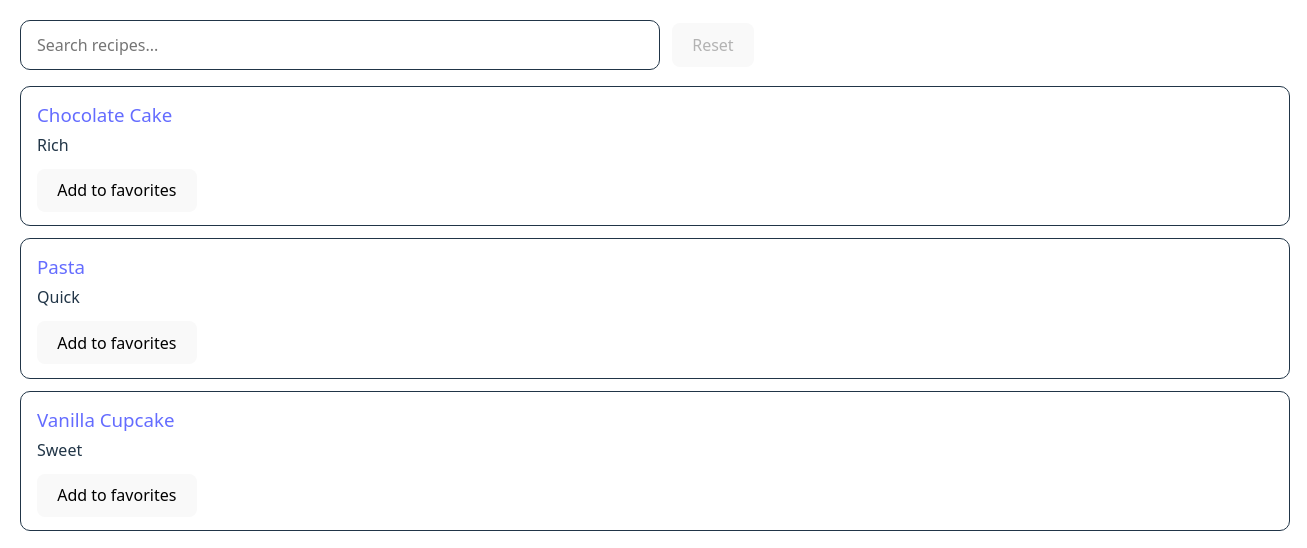
Test: SearchBar + RecipeList integration › filters results as the user types
The width and height of the screenshot is (1307, 548).
Expected: the link "Chocolate Cake" is shown, [37, 102, 172, 127]
Expected: the link "Pasta" is shown, [37, 254, 85, 279]
Type "cake" into the field labelled "Search recipes...".
click(340, 45); type("cake")  # box [20, 20, 660, 70]
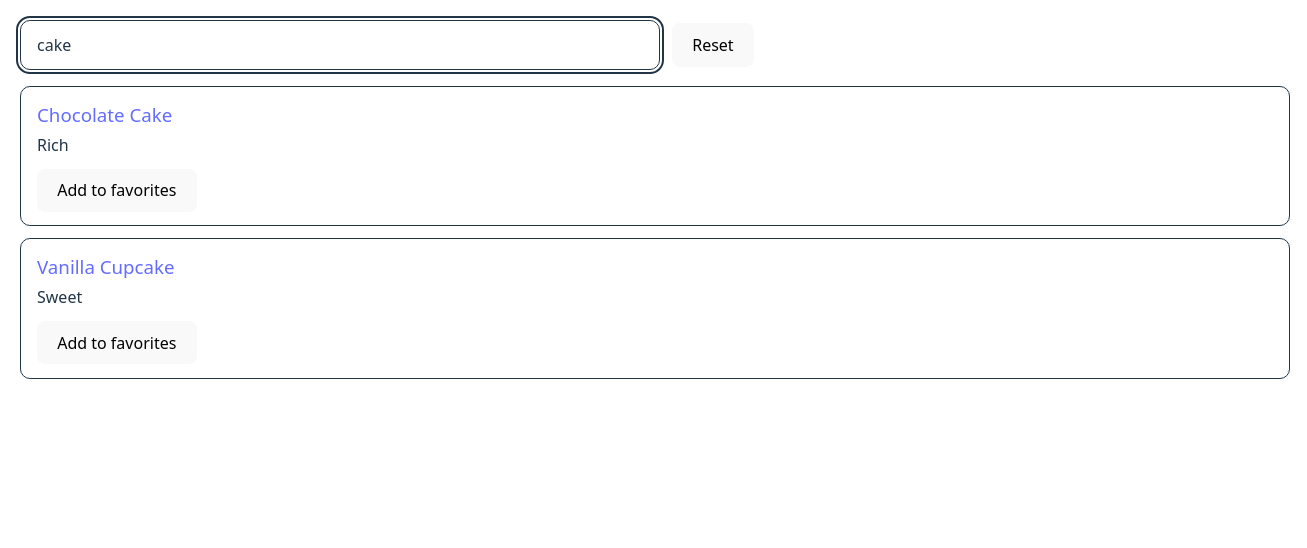
Expected: the link "Chocolate Cake" is shown, [37, 102, 172, 127]
Result: the link "Pasta" is gone
